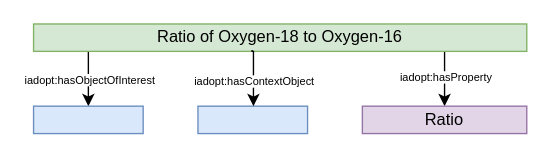
The diagram is 551 pixels wide and 158 high, and some of its shapes have lost their labels. Each missing label, with the centre of its shape:
Oxygen-16: the point at 252,119
Oxygen-18: the point at 87,119
